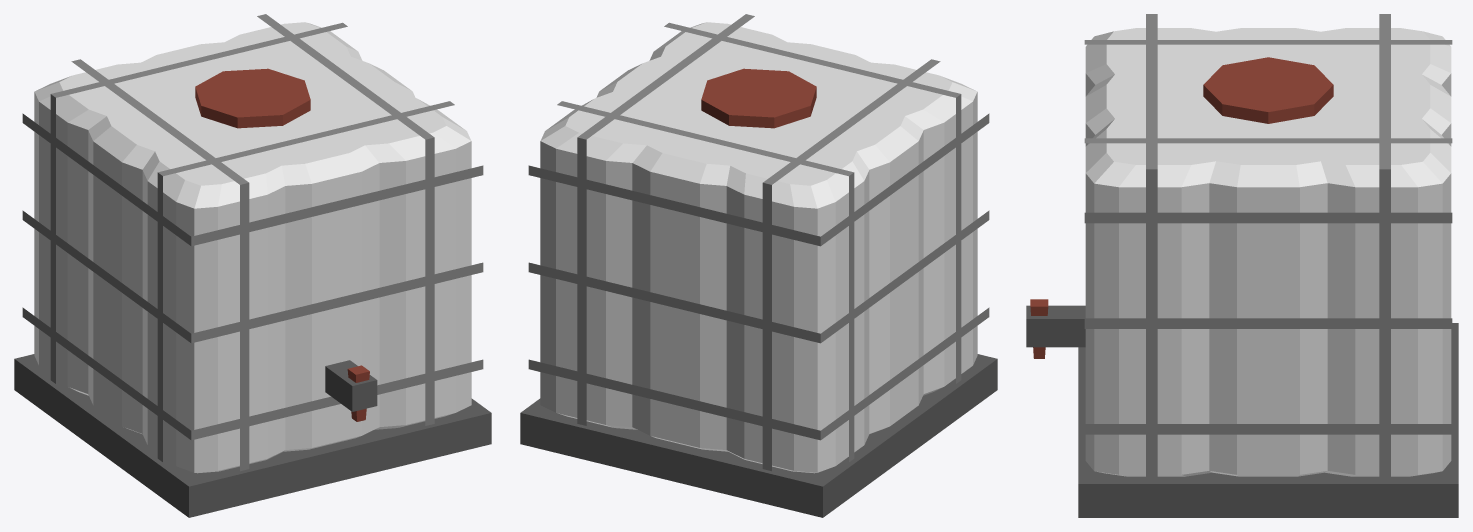
The model's file is Water Tank.glb.
3 renders of one model, left to right at view 1: azimuth 30°, elevation 25°; view 2: azimuth 150°, elevation 25°; view 3: azimuth 270°, elevation 25°, orthographic. The views are drawn at different scales.
Parts seen in each view (by area): view 1: Cube.011; view 2: Cube.011; view 3: Cube.011.
Boxes of the visible parts, x1=… form: Cube.011: x1=14, y1=14, x2=491, y2=517; Cube.011: x1=520, y1=14, x2=997, y2=517; Cube.011: x1=1026, y1=14, x2=1458, y2=517.
Bounding box in the file's own units: 1.66 × 1.7 × 1.89.
